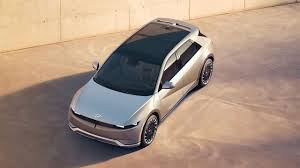Honda Ioniq: (64, 10, 219, 158)
